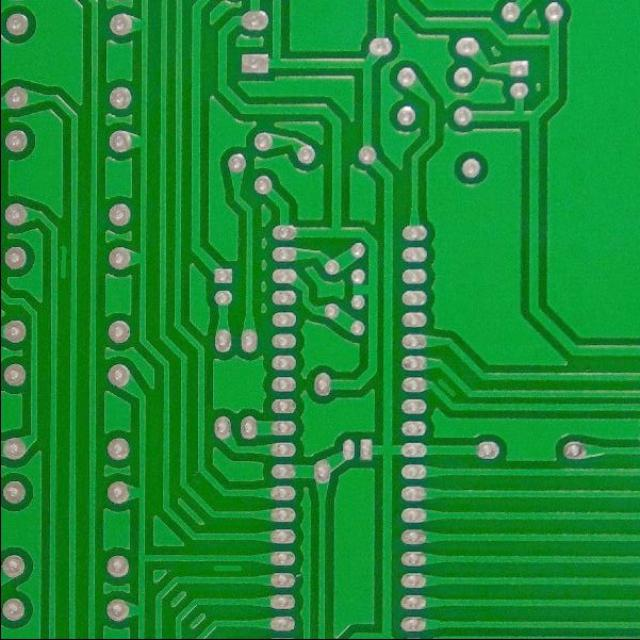spurious_copper: (52, 243, 70, 281), (434, 376, 458, 401), (208, 562, 245, 575)
